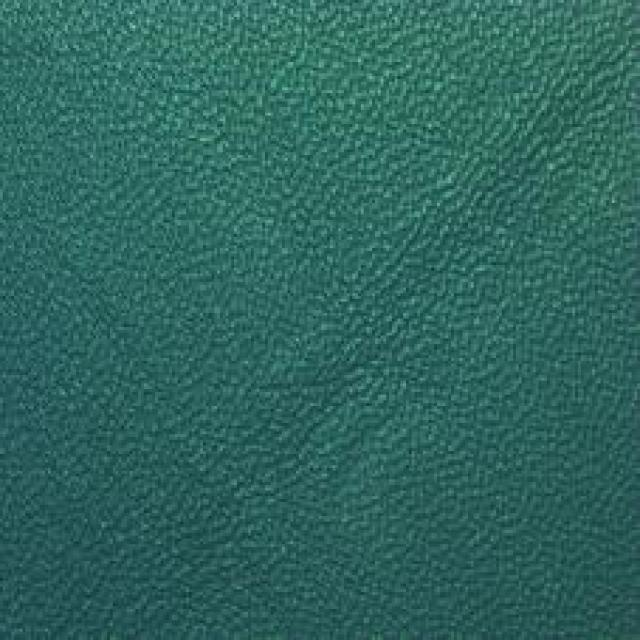Growth Marks: (252, 276, 428, 547), (457, 56, 601, 331)
